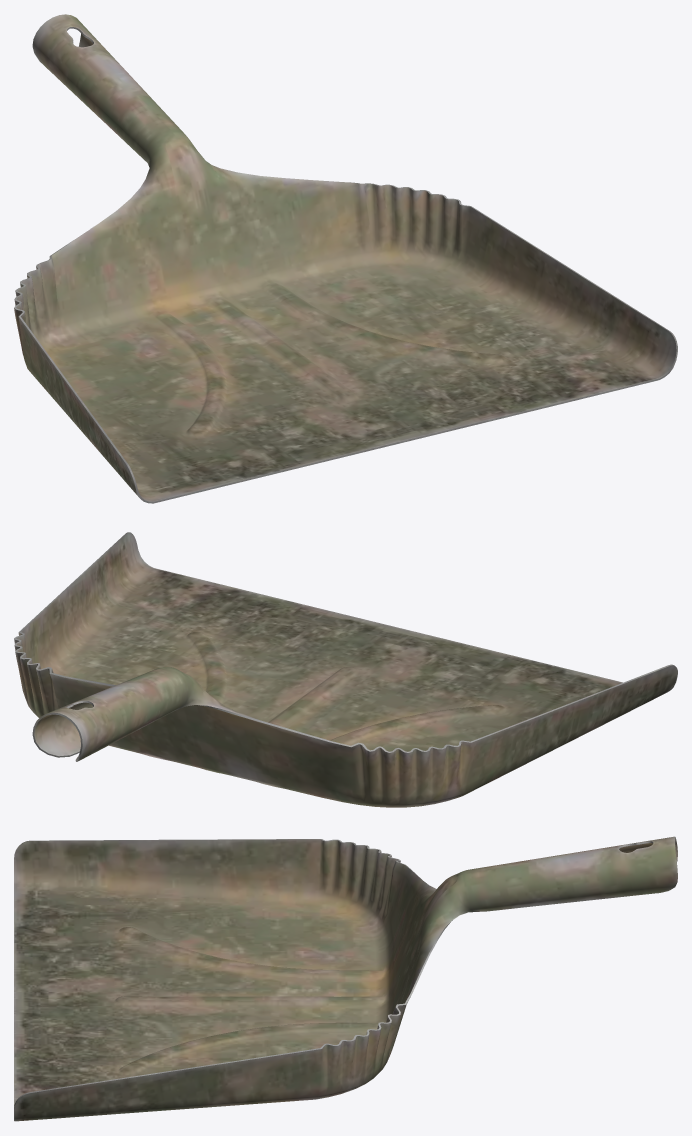
The model's file is dustpan.glb.
The picture shows the model from 3 angles, top to bottom: view 1: azimuth 30°, elevation 25°; view 2: azimuth 150°, elevation 25°; view 3: azimuth 270°, elevation 25°; orthographic projection. The views are drawn at different scales.
Visible parts, largest first — view 1: dustpan; view 2: dustpan; view 3: dustpan.
Part boxes in pixels (left/top/right/bottom): dustpan: left=14, top=14, right=677, bottom=503; dustpan: left=14, top=532, right=677, bottom=807; dustpan: left=14, top=836, right=677, bottom=1121.
Bounding box in the file's own units: 0.3321 × 0.1003 × 0.368.
Materials: 1 (1 with a texture image).
